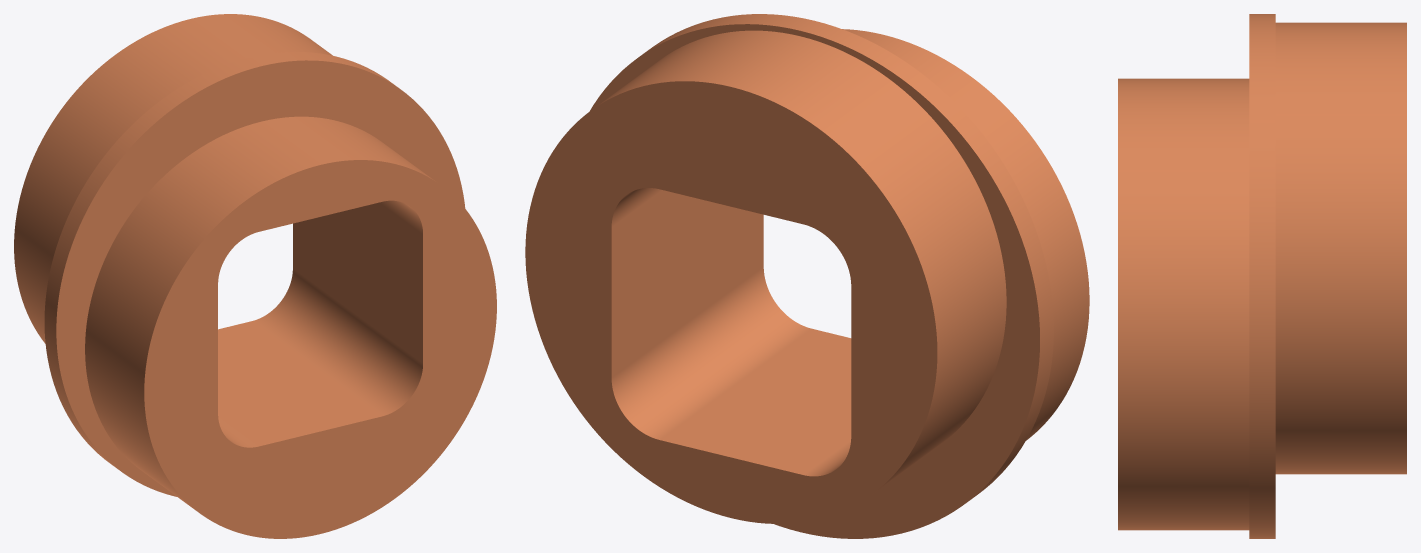
Rendered from cam_v2.gltf.
3 views of the same model, side by side, from view 1: azimuth 30°, elevation 25°; view 2: azimuth 150°, elevation 25°; view 3: azimuth 270°, elevation 25° (orthographic). The views are drawn at different scales.
Visible parts, largest first — view 1: mesh74, mesh72, mesh71, mesh68, mesh75, mesh81, mesh82, mesh70, mesh76; view 2: mesh73, mesh68, mesh69, mesh75, mesh81, mesh72, mesh82, mesh70, mesh76; view 3: mesh68, mesh72, mesh70.
Part boxes in pixels (x1=…): mesh74: x1=144, y1=160, x2=496, y2=538; mesh72: x1=85, y1=116, x2=435, y2=510; mesh71: x1=56, y1=60, x2=465, y2=496; mesh68: x1=14, y1=14, x2=332, y2=343; mesh75: x1=293, y1=202, x2=422, y2=362; mesh81: x1=218, y1=321, x2=381, y2=446; mesh82: x1=252, y1=268, x2=422, y2=416; mesh70: x1=44, y1=51, x2=395, y2=467; mesh76: x1=379, y1=200, x2=422, y2=234; mesh73: x1=525, y1=81, x2=937, y2=523; mesh68: x1=596, y1=30, x2=1006, y2=490; mesh69: x1=590, y1=24, x2=1039, y2=538; mesh75: x1=611, y1=190, x2=763, y2=377; mesh81: x1=660, y1=328, x2=851, y2=474; mesh72: x1=842, y1=29, x2=1089, y2=440; mesh82: x1=611, y1=267, x2=811, y2=439; mesh70: x1=642, y1=14, x2=1053, y2=500; mesh76: x1=611, y1=188, x2=662, y2=227; mesh68: x1=1275, y1=22, x2=1406, y2=474; mesh72: x1=1118, y1=78, x2=1249, y2=530; mesh70: x1=1249, y1=14, x2=1275, y2=538.
Bounding box in the file's own units: 0.02 × 0.02 × 0.011.
